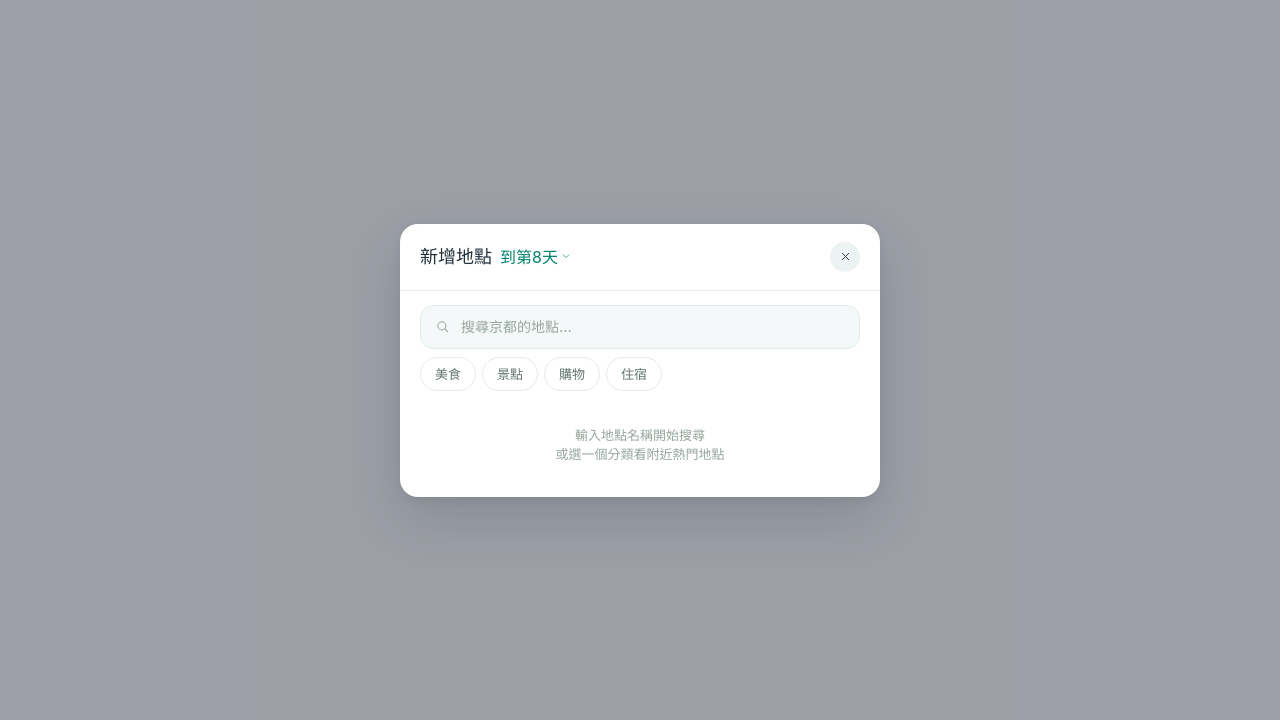
AddPlaceModal › shows a failure message when the search fails
The width and height of the screenshot is (1280, 720).
Click the button "美食": (448, 374) [420,356,476,390]
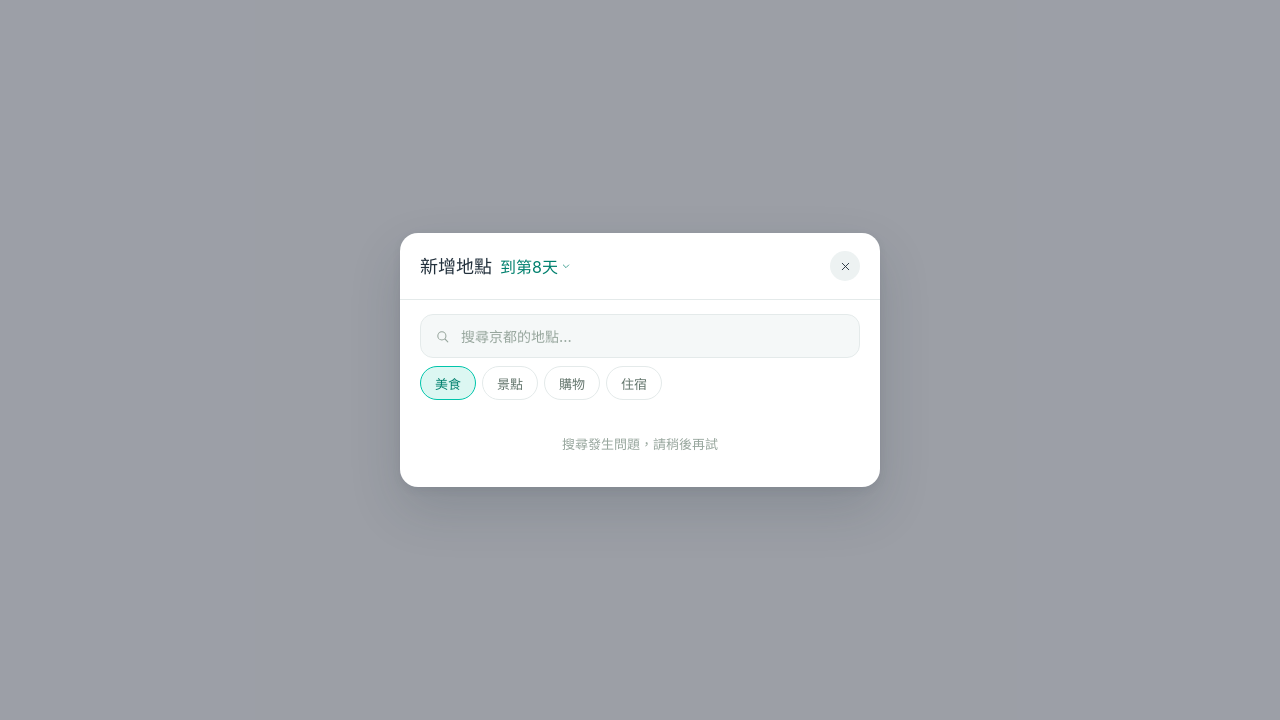
Check: the text "搜尋發生問題" is shown, box [562,436,718,452]
